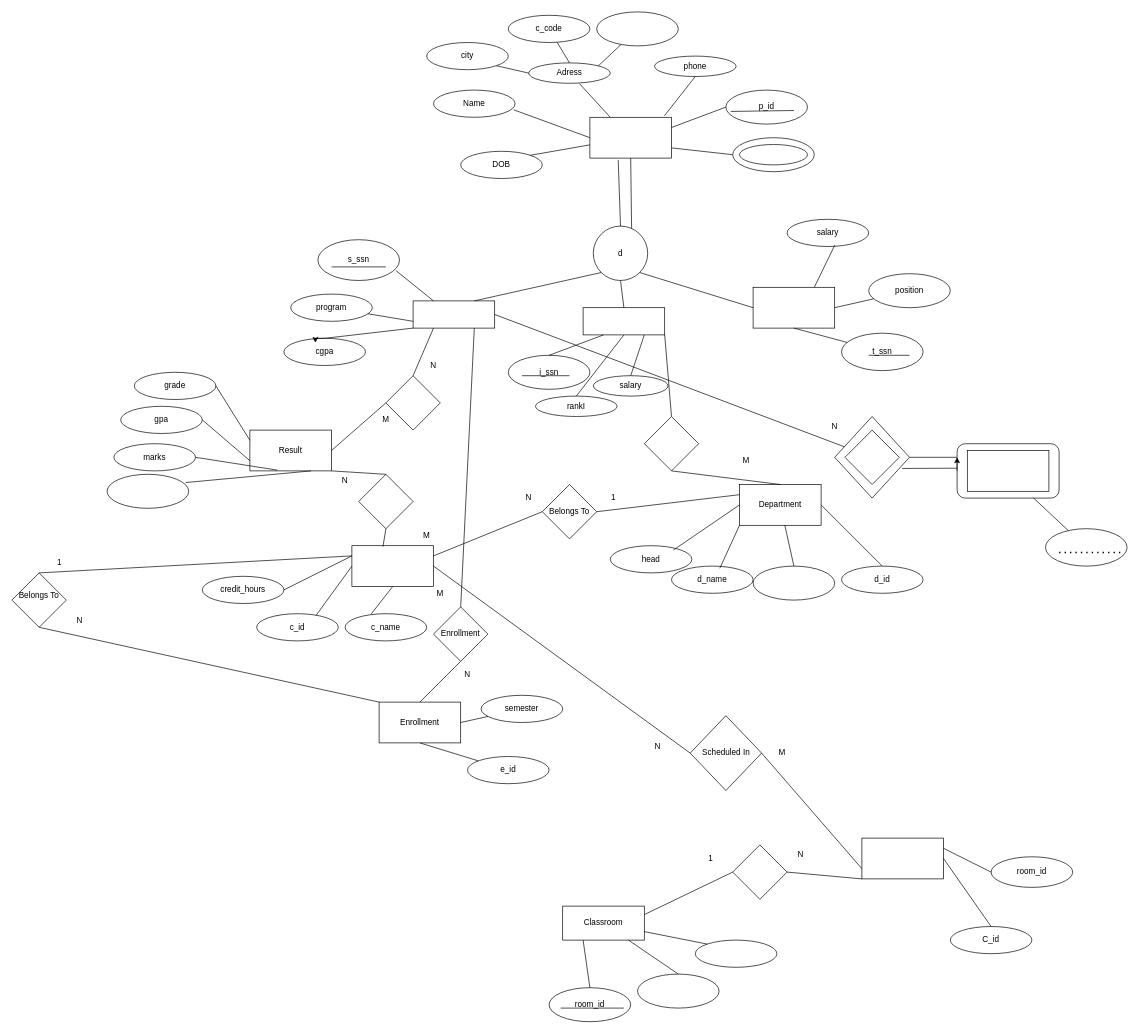
The diagram is 1139 pixels wide and 1034 high, and some of its shapes have lost their labels. The box of each missing label's shape, as (x1, y1, x2, y2) in pixels:
Assigned To: (732, 844, 787, 899)
building: (637, 973, 719, 1008)
capacity: (695, 939, 777, 967)
Contains: (358, 474, 413, 529)
Course: (351, 545, 434, 586)
Course_Classroom: (861, 837, 944, 879)
ea_id: (1045, 528, 1127, 566)
email: (739, 144, 808, 165)
Exam_Attendance: (967, 450, 1049, 491)
Has: (385, 375, 440, 430)
Heads: (644, 416, 699, 471)
Instructor: (582, 307, 665, 335)
location: (752, 565, 835, 600)
Person: (589, 117, 672, 158)
r_id: (106, 474, 189, 508)
S_ATT: (844, 429, 899, 485)
street: (596, 11, 678, 46)
Student: (412, 300, 495, 328)
Teacher: (752, 287, 835, 328)
